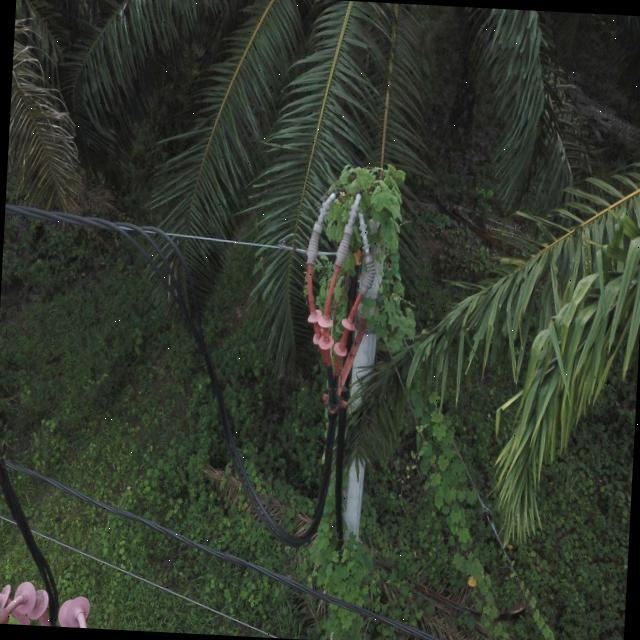critical vegetation: (290, 154, 410, 541), (394, 379, 570, 640)
